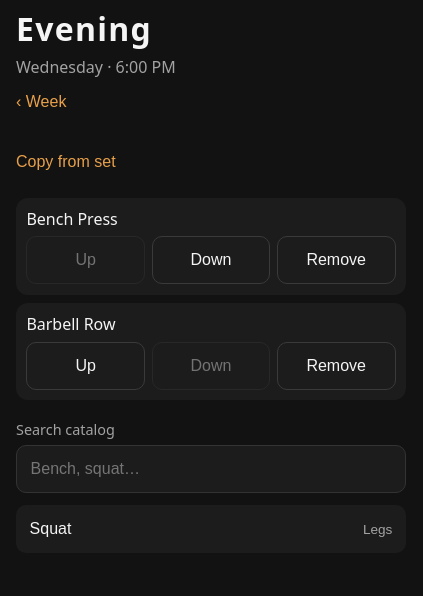
SetExerciseEditorPage › surfaces failed exercise saves
This screenshot has width=423, height=596.
Click the button "Squat Legs". click: (50, 529)
box: [16, 505, 406, 553]
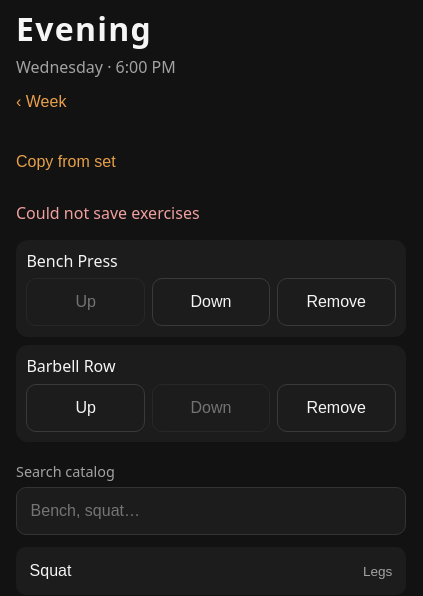
Now the message reads "Could not save exercises", box [16, 202, 200, 224]
